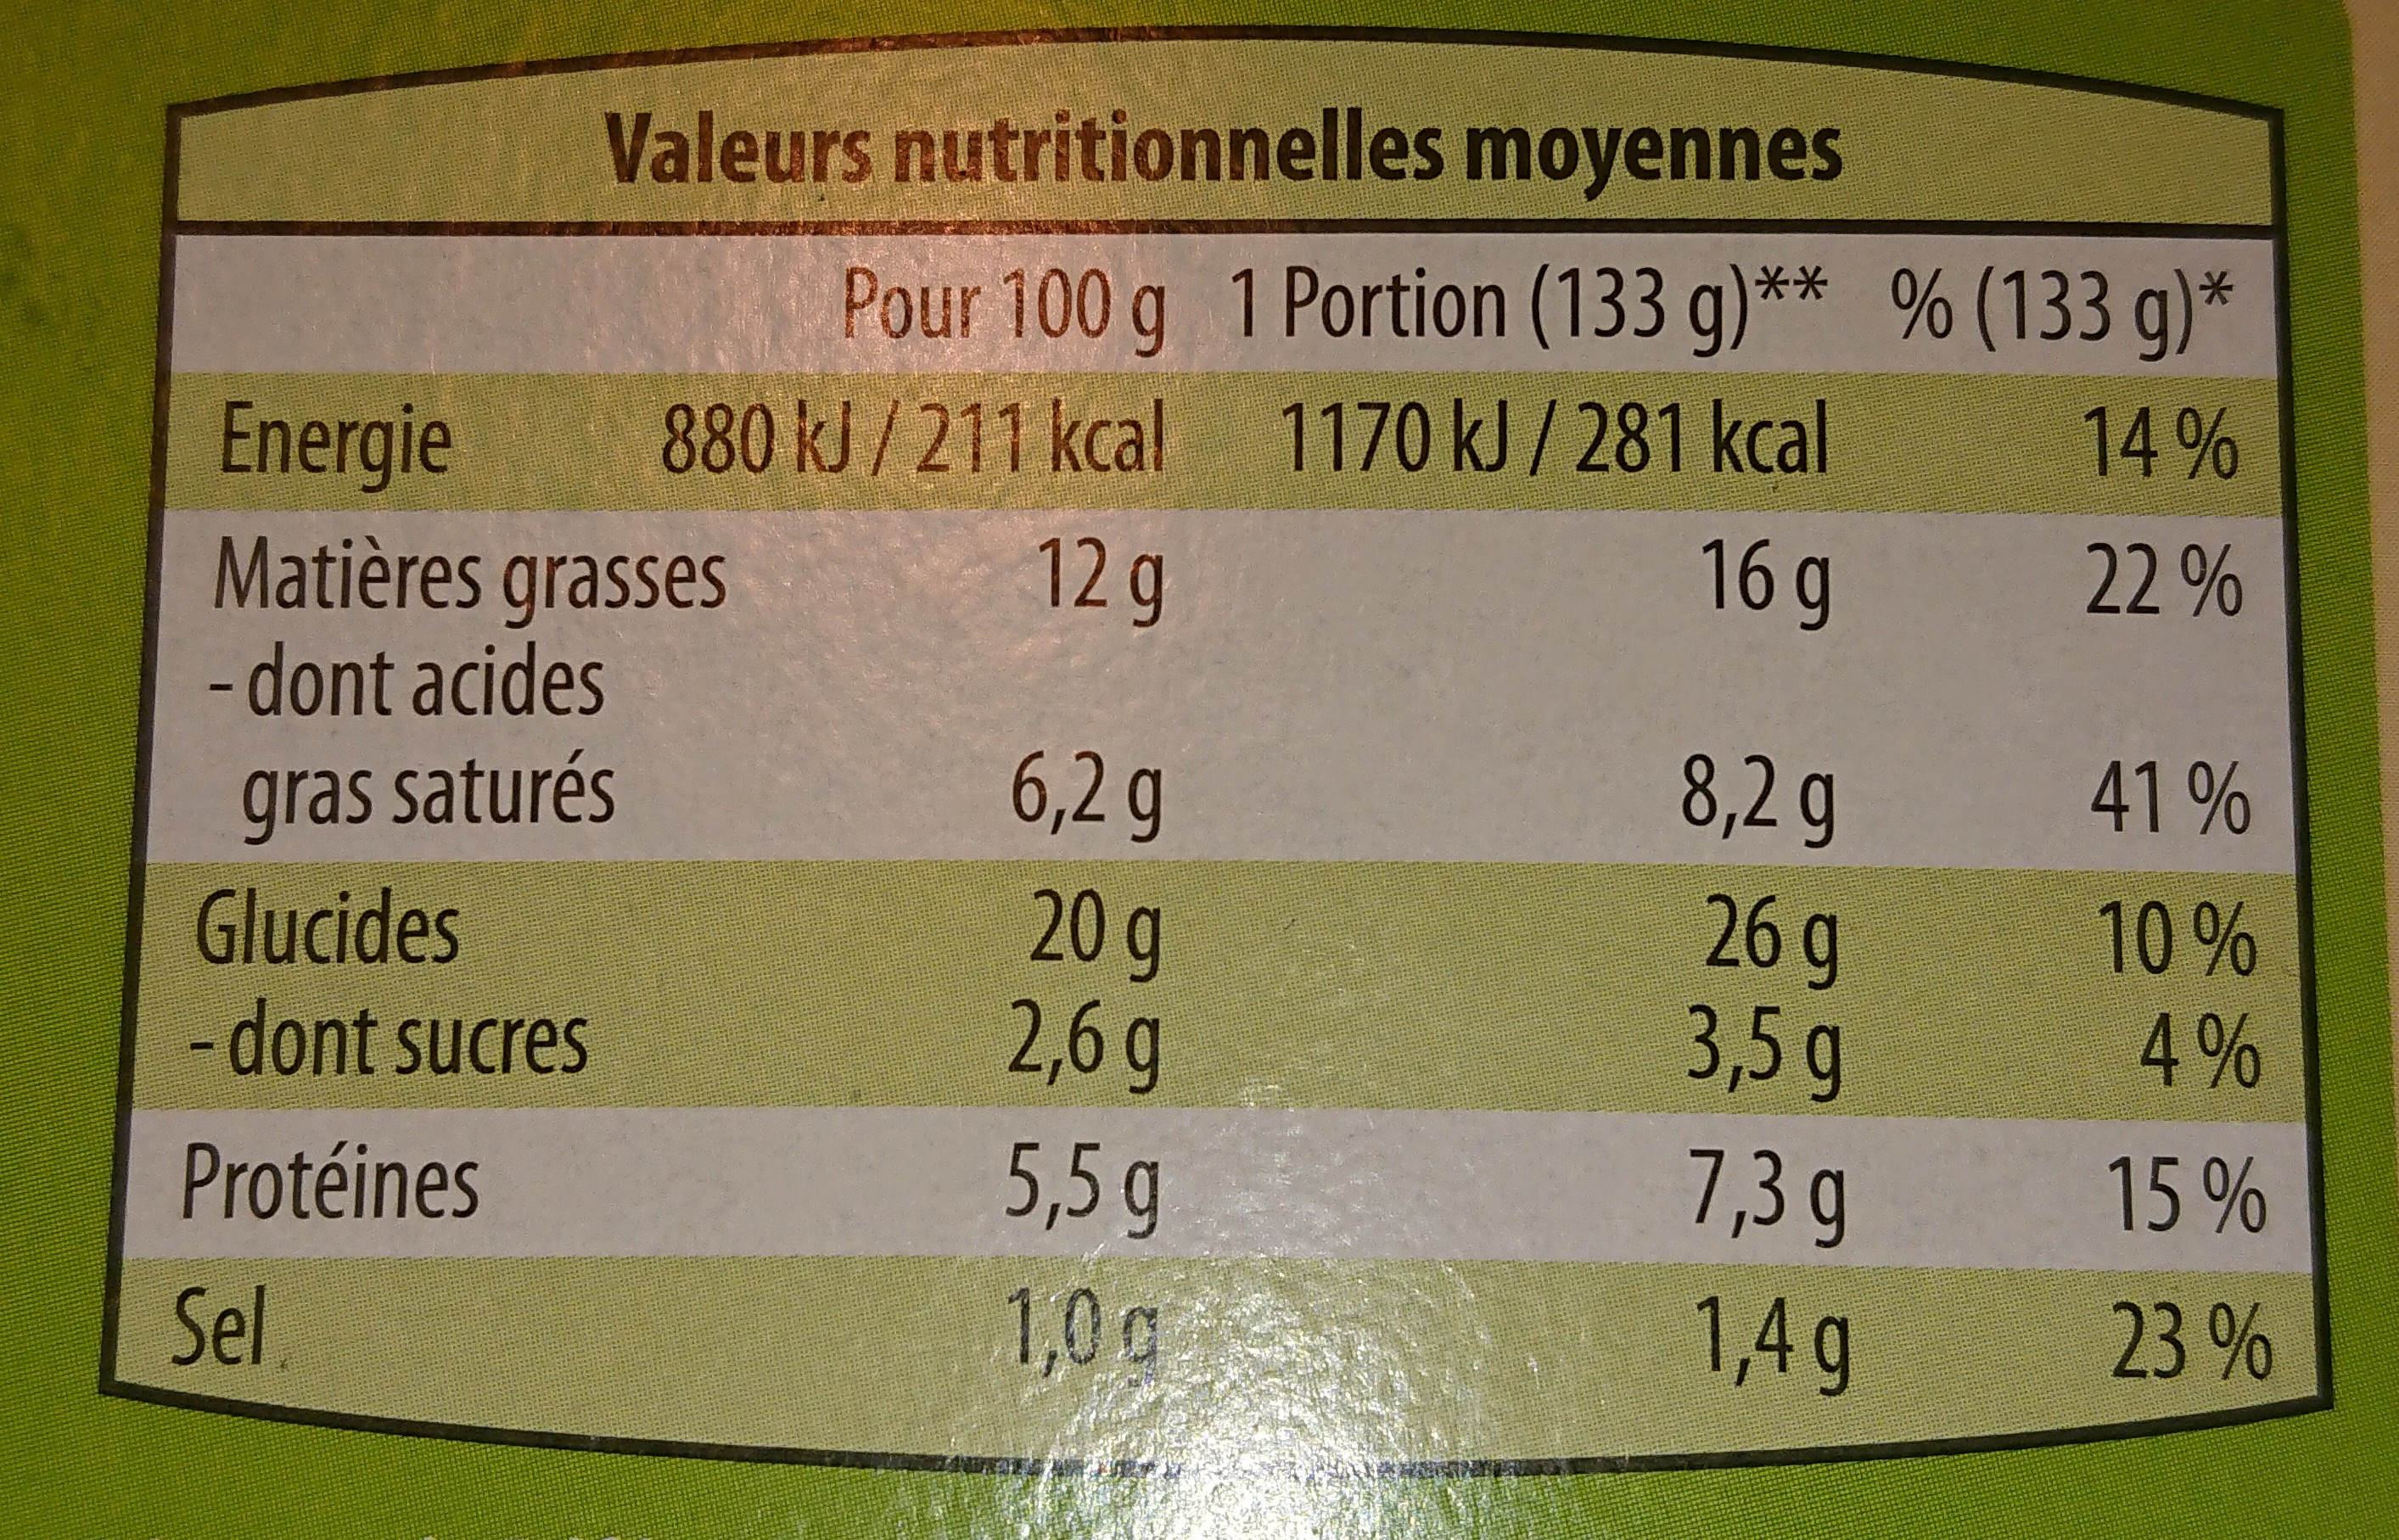column: (152, 220, 1170, 1486), (1224, 219, 1848, 1482), (1887, 224, 2280, 1482)
table: (96, 24, 2334, 1482)
